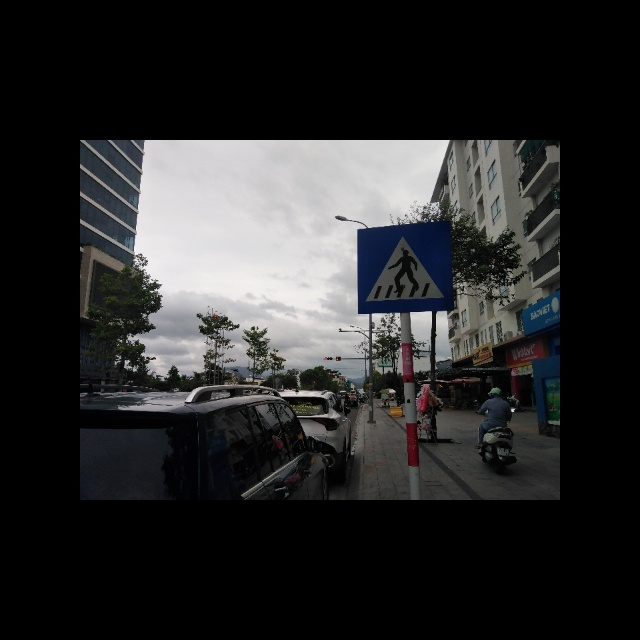Đường dành cho người đi bộ: (357, 224, 456, 315)
